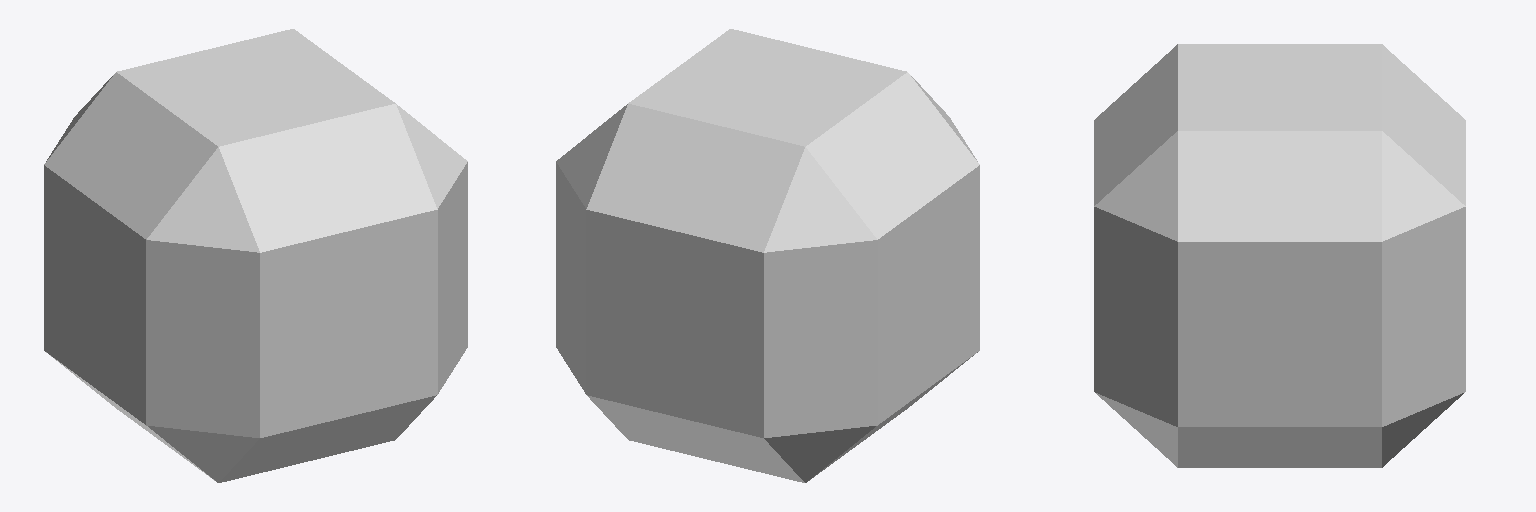
The picture shows the model from 3 angles: view 1: azimuth 30°, elevation 25°; view 2: azimuth 150°, elevation 25°; view 3: azimuth 270°, elevation 25°; orthographic projection.
Visible parts, largest first — view 1: Cube.010_Cube.003; view 2: Cube.010_Cube.003; view 3: Cube.010_Cube.003.
Part boxes in pixels (x1,y1,x2,y2): Cube.010_Cube.003: (44, 29, 467, 482); Cube.010_Cube.003: (556, 29, 979, 482); Cube.010_Cube.003: (1094, 44, 1465, 467).
Bounding box in the file's own units: 0.2 × 0.2 × 0.2.
1 materials, 1 textured.